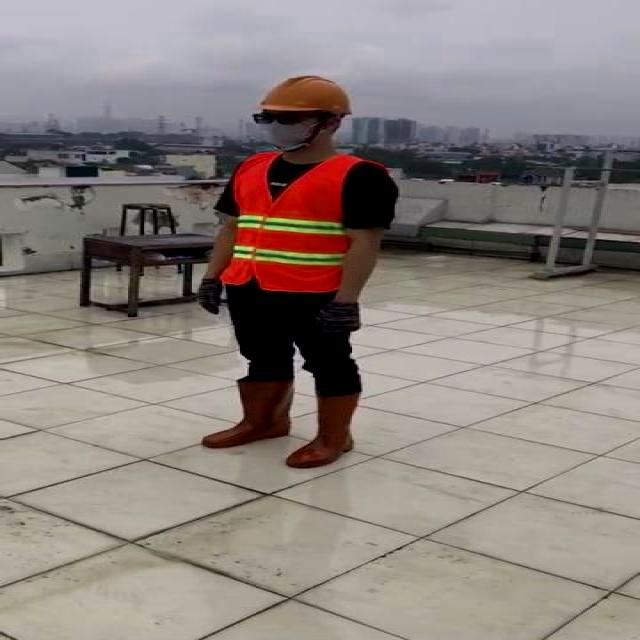boots: (284, 390, 376, 475), (197, 375, 295, 453)
face_mask: (252, 108, 326, 148)
glasses: (248, 108, 314, 128)
hand_glove: (316, 299, 367, 337), (183, 281, 231, 317)
head_helmet: (258, 70, 356, 116)
person: (202, 68, 404, 468)
vest: (218, 149, 386, 293)
